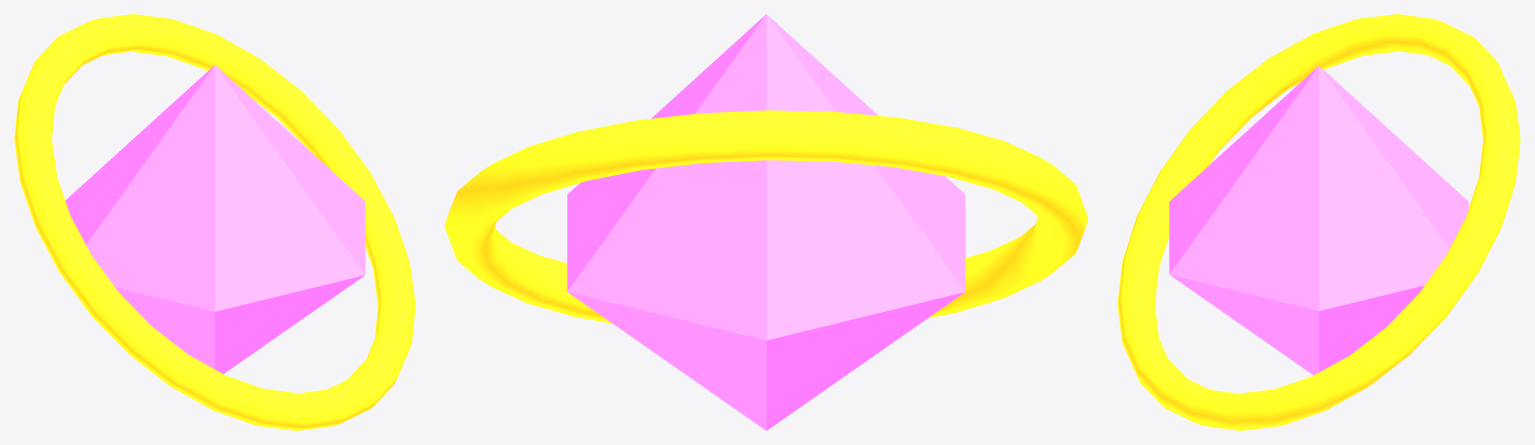
Rendered from proj_void_orb.glb.
3 renders of one model, left to right at view 1: azimuth 30°, elevation 25°; view 2: azimuth 150°, elevation 25°; view 3: azimuth 270°, elevation 25°, orthographic. The views are drawn at different scales.
Visible parts, largest first — view 1: OrbCore, OrbRingA; view 2: OrbCore, OrbRingA; view 3: OrbCore, OrbRingA.
Part boxes in pixels (x1,y1,x2,y2): OrbCore: [65, 65, 365, 373]; OrbRingA: [14, 14, 415, 430]; OrbCore: [567, 14, 965, 430]; OrbRingA: [444, 110, 1088, 323]; OrbCore: [1169, 66, 1468, 375]; OrbRingA: [1117, 14, 1520, 430].
Size of the model in its own units: 0.6313 by 0.48 by 0.5599.
